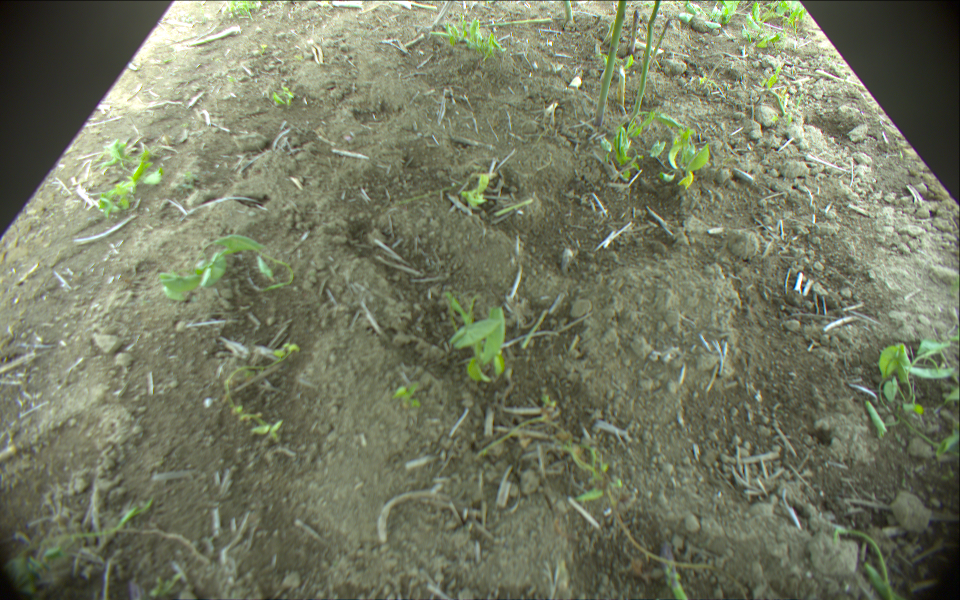aspa: (593, 1, 627, 128), (632, 1, 661, 120), (469, 17, 554, 32), (650, 18, 672, 64), (614, 66, 629, 113), (628, 8, 638, 53), (562, 1, 575, 22)
